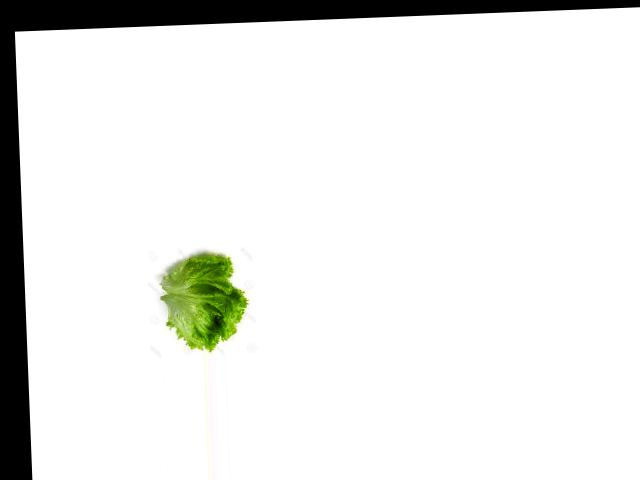lettuce: (156, 244, 245, 355)
